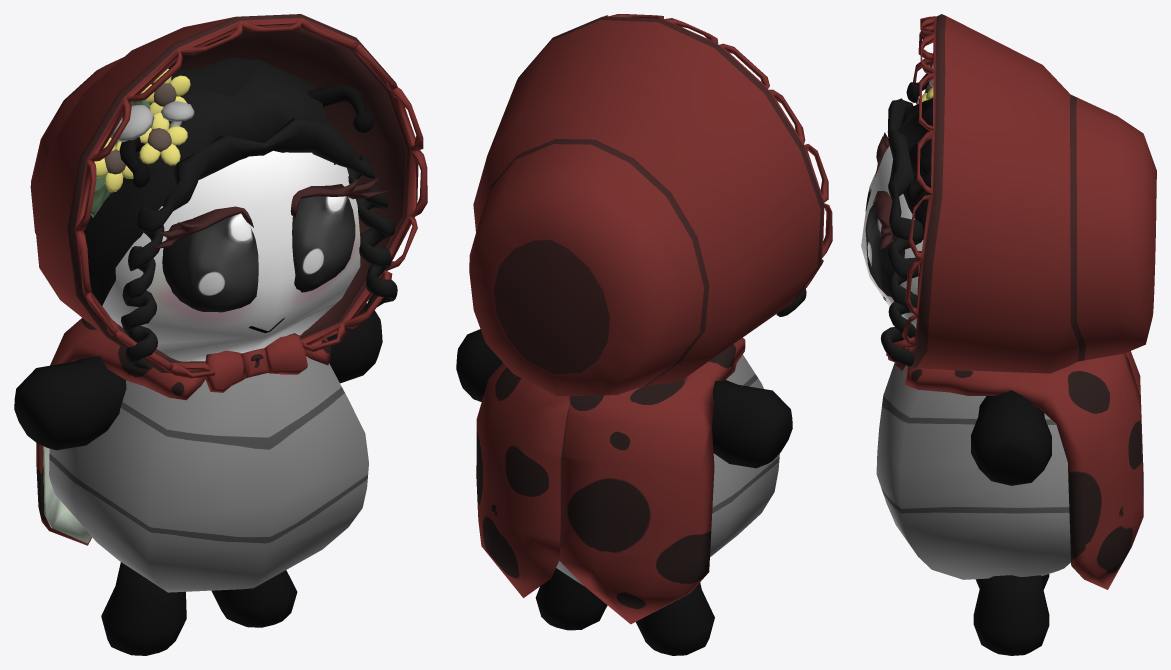
Rendered from ladyTEST.fbx.
3 renders of one model, left to right at view 1: azimuth 30°, elevation 25°; view 2: azimuth 150°, elevation 25°; view 3: azimuth 270°, elevation 25°, orthographic. The views are drawn at different scales.
Visible parts, largest first — view 1: legs; view 2: legs; view 3: legs.
Part boxes in pixels (<box>): legs: <box>14,14,427,655</box>; legs: <box>456,14,832,655</box>; legs: <box>861,14,1156,655</box>.
Size of the model in its own units: 123 by 214 by 97.04.
Materials: 14 (10 with a texture image).
